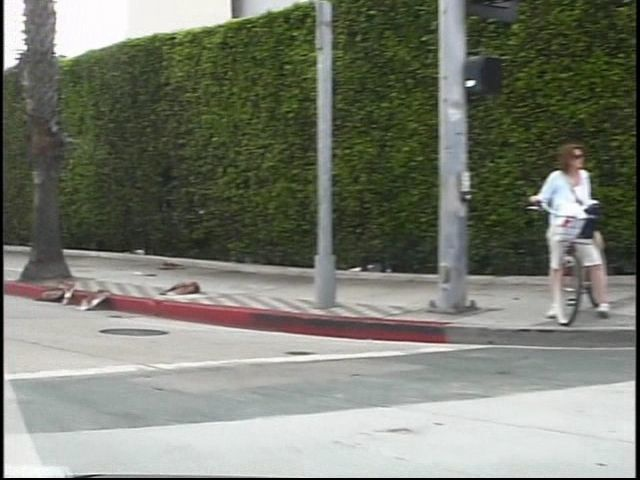person: (521, 148, 590, 323)
